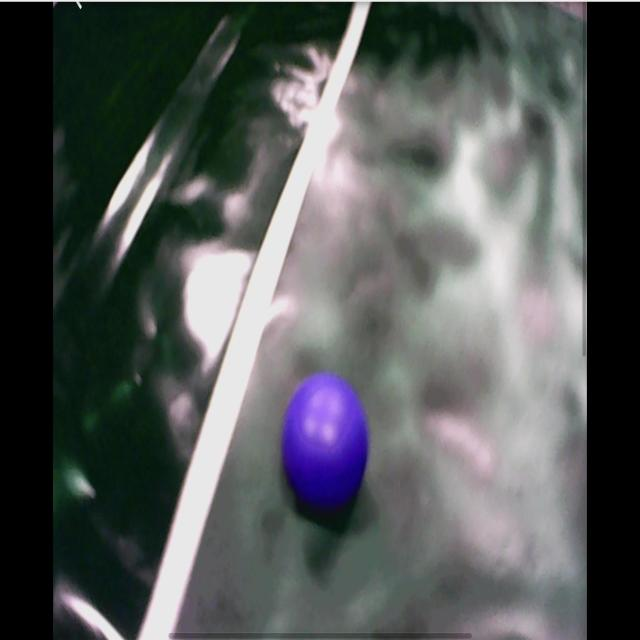ball: (284, 371, 371, 510)
